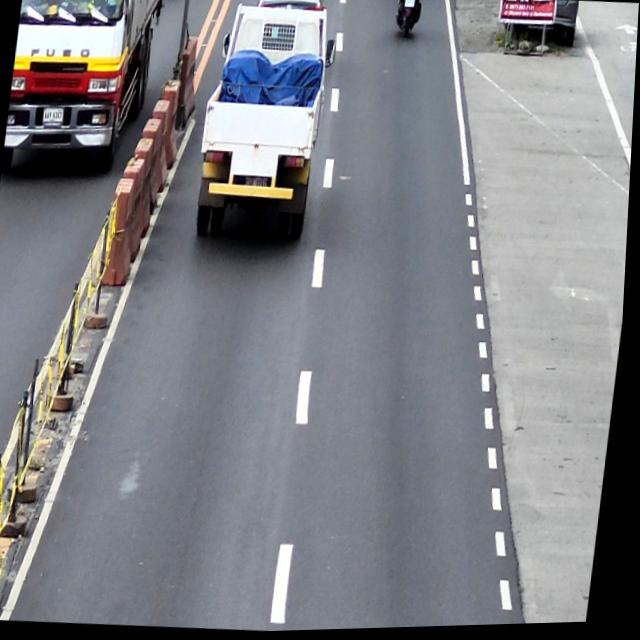License-Plate: (245, 175, 271, 191)
Truck: (192, 0, 342, 248)
